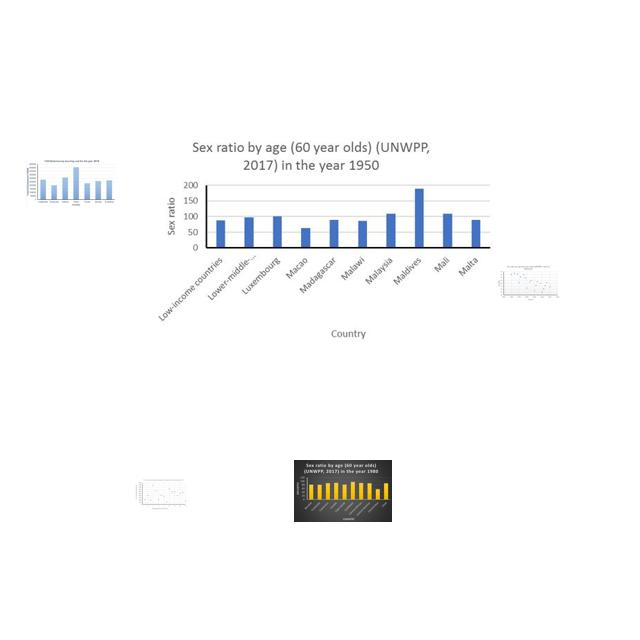Graph: (154, 131, 496, 345), (294, 460, 392, 522), (26, 159, 116, 207), (497, 264, 560, 301), (135, 478, 187, 510)
